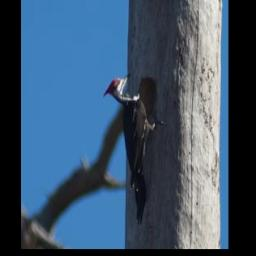Woodpecker: (103, 72, 167, 225)
